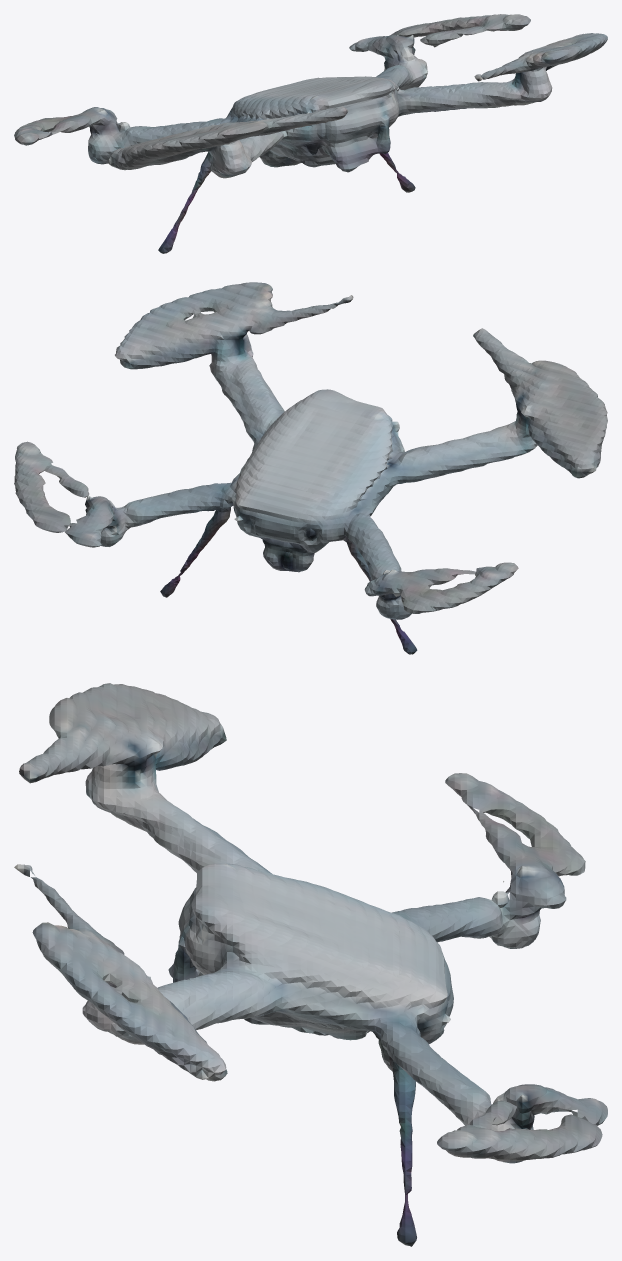
The model's file is room-08-delivery-drone.glb.
3 views of the same model, one above another, from view 1: azimuth 30°, elevation 25°; view 2: azimuth 150°, elevation 25°; view 3: azimuth 270°, elevation 25° (orthographic). The views are drawn at different scales.
Visible parts, largest first — view 1: world; view 2: world; view 3: world.
Boxes of the visible parts, x1,y1,x2,y2 form: world: [14, 14, 607, 253]; world: [14, 282, 607, 654]; world: [14, 683, 607, 1246].
Bounding box in the file's own units: 0.98 × 0.4165 × 0.6588.
